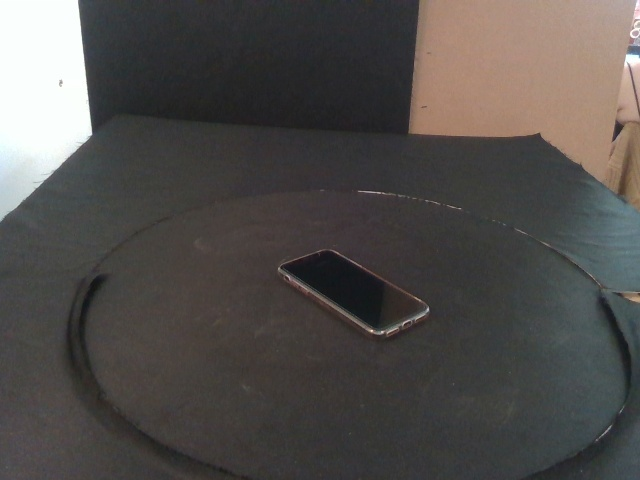phone: (276, 248, 431, 343)
